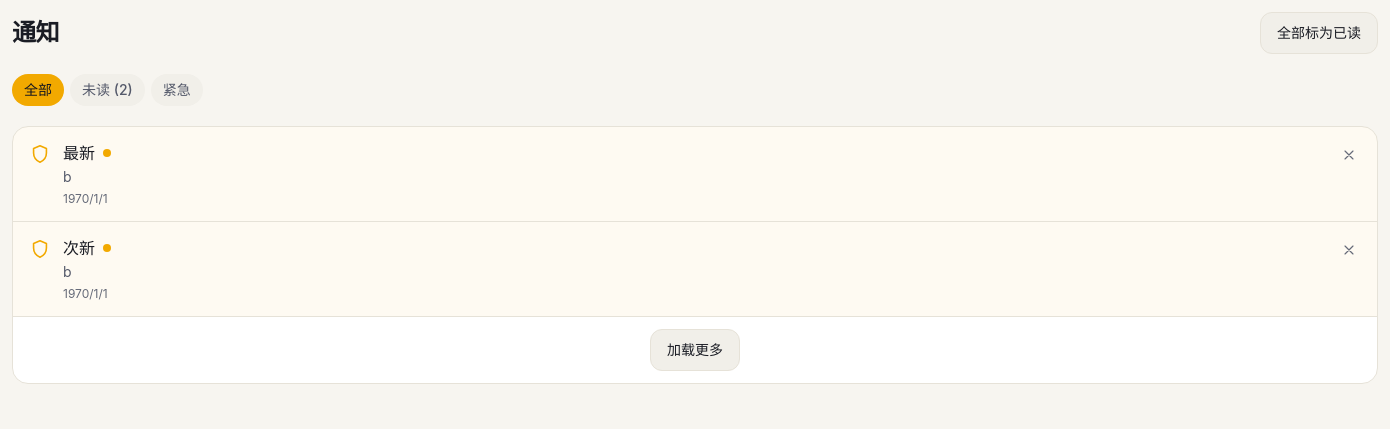
Scenario: NotificationsPage "加载更多"（silent cap 修复：不再只见最近 100 条） › hasMore 时显示"加载更多"；点击→用最早一条游标翻页、追加更早的（首屏仍在）；到底后按钮消失
Expected: the text "最新" is shown, [63,141,95,165]
Step 1. Click the button "加载更多" → click(695, 350), box [650,329,740,371]
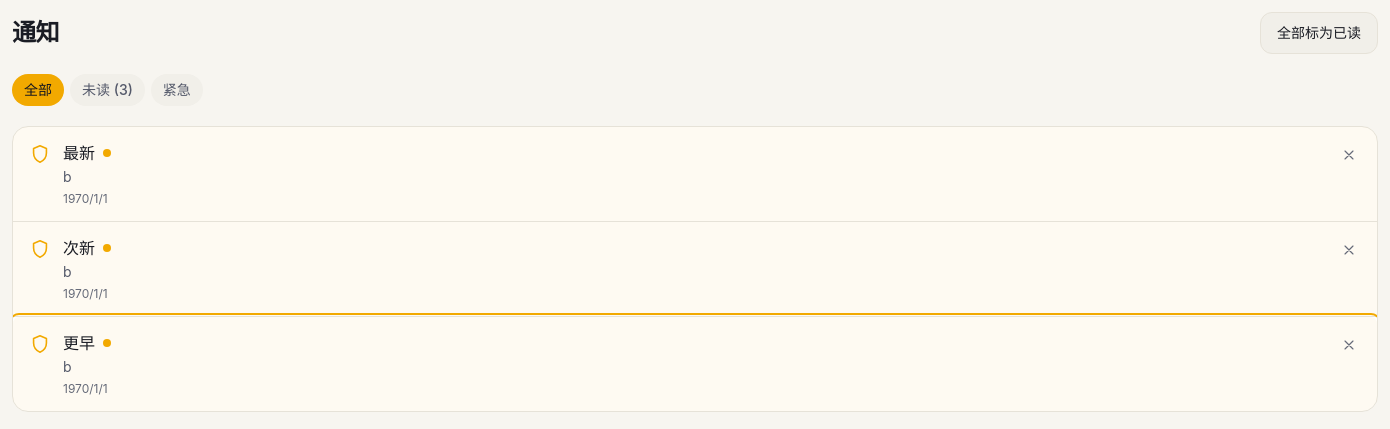
Expected: the text "最新" is shown, [63,141,95,165]
Now the text "更早" is shown, box [63,331,95,355]
Now the button "加载更多" is gone
